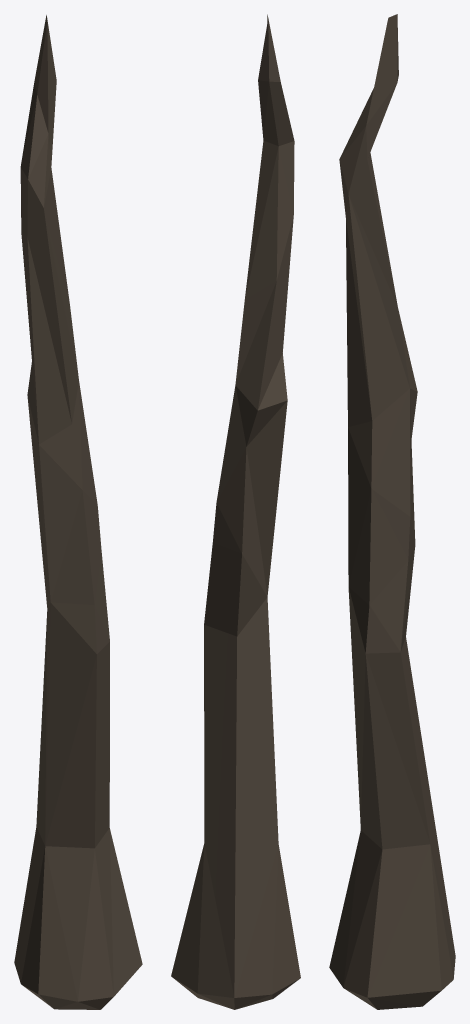
The model's file is env_tree_dead2.gltf.
3 views of the same model, side by side, from view 1: azimuth 30°, elevation 25°; view 2: azimuth 210°, elevation 25°; view 3: azimuth 330°, elevation 25° (orthographic). The views are drawn at different scales.
Parts seen in each view (by area): view 1: env_tree_dead2; view 2: env_tree_dead2; view 3: env_tree_dead2.
Boxes of the visible parts, left/top/right/bottom form: env_tree_dead2: left=14, top=15, right=142, bottom=1009; env_tree_dead2: left=171, top=14, right=300, bottom=1009; env_tree_dead2: left=329, top=14, right=455, bottom=1009.
Bounding box in the file's own units: 0.5914 × 5.05 × 0.5794.
Materials: 1 (1 with a texture image).
